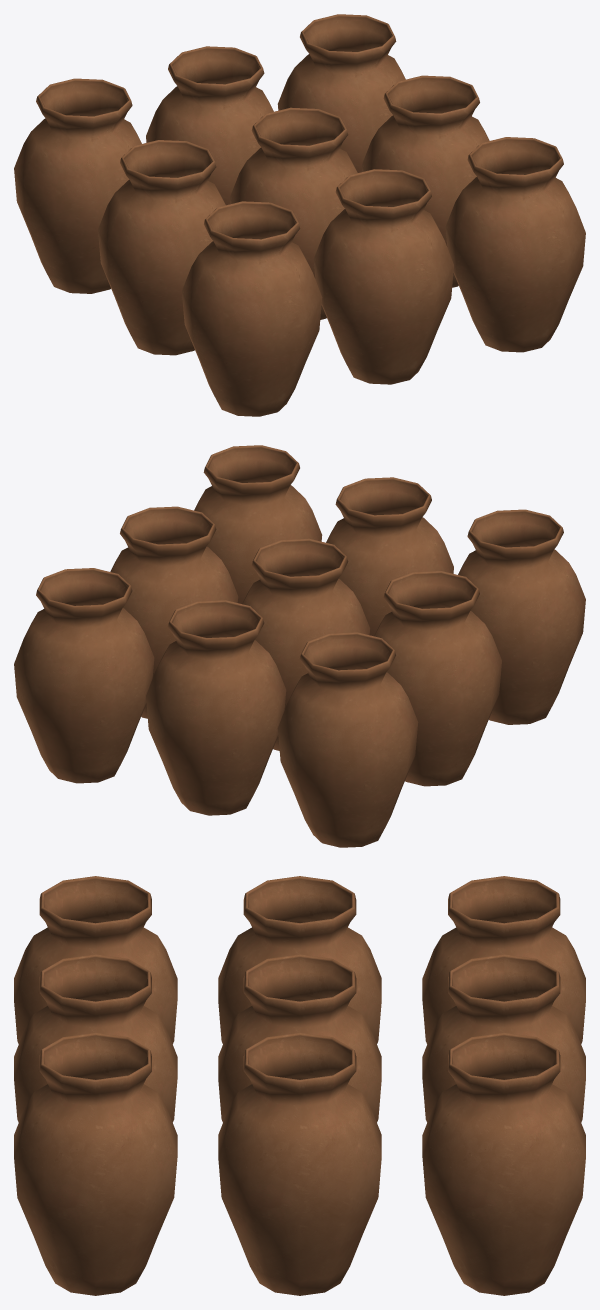
The model's file is PotteryJar1_Group.fbx.
3 views of the same model, one above another, from view 1: azimuth 30°, elevation 25°; view 2: azimuth 150°, elevation 25°; view 3: azimuth 270°, elevation 25° (orthographic). The views are drawn at different scales.
Visible parts, largest first — view 1: PotteryJar1_8, PotteryJar1_6, PotteryJar1_7, PotteryJar1_, PotteryJar1_3, PotteryJar1_4, PotteryJar1_5, PotteryJar1_1, PotteryJar1_2; view 2: PotteryJar1_, PotteryJar1_2, PotteryJar1_1, PotteryJar1_8, PotteryJar1_3, PotteryJar1_4, PotteryJar1_5, PotteryJar1_7, PotteryJar1_6; view 3: PotteryJar1_5, PotteryJar1_2, PotteryJar1_6, PotteryJar1_4, PotteryJar1_3, PotteryJar1_1, PotteryJar1_7, PotteryJar1_, PotteryJar1_8.
Part boxes in pixels (x1,y1,x2,y2): PotteryJar1_8: [181, 201, 322, 416]; PotteryJar1_6: [445, 137, 585, 352]; PotteryJar1_7: [313, 169, 453, 384]; PotteryJar1_: [14, 78, 141, 293]; PotteryJar1_3: [98, 140, 225, 355]; PotteryJar1_4: [229, 107, 357, 319]; PotteryJar1_5: [361, 75, 489, 287]; PotteryJar1_1: [146, 46, 273, 205]; PotteryJar1_2: [277, 14, 405, 172]; PotteryJar1_: [277, 632, 418, 847]; PotteryJar1_2: [14, 568, 154, 783]; PotteryJar1_1: [146, 600, 286, 815]; PotteryJar1_8: [458, 509, 585, 724]; PotteryJar1_3: [374, 571, 501, 786]; PotteryJar1_4: [242, 538, 370, 750]; PotteryJar1_5: [110, 506, 238, 718]; PotteryJar1_7: [326, 477, 453, 636]; PotteryJar1_6: [194, 445, 322, 603]; PotteryJar1_5: [218, 1032, 381, 1295]; PotteryJar1_2: [422, 1032, 585, 1295]; PotteryJar1_6: [14, 1032, 177, 1295]; PotteryJar1_4: [218, 954, 381, 1121]; PotteryJar1_3: [218, 876, 381, 1043]; PotteryJar1_1: [422, 954, 585, 1122]; PotteryJar1_7: [14, 954, 177, 1122]; PotteryJar1_: [422, 876, 585, 1043]; PotteryJar1_8: [14, 876, 177, 1043].
Bounding box in the file's own units: 44.84 × 20.3 × 47.26.
